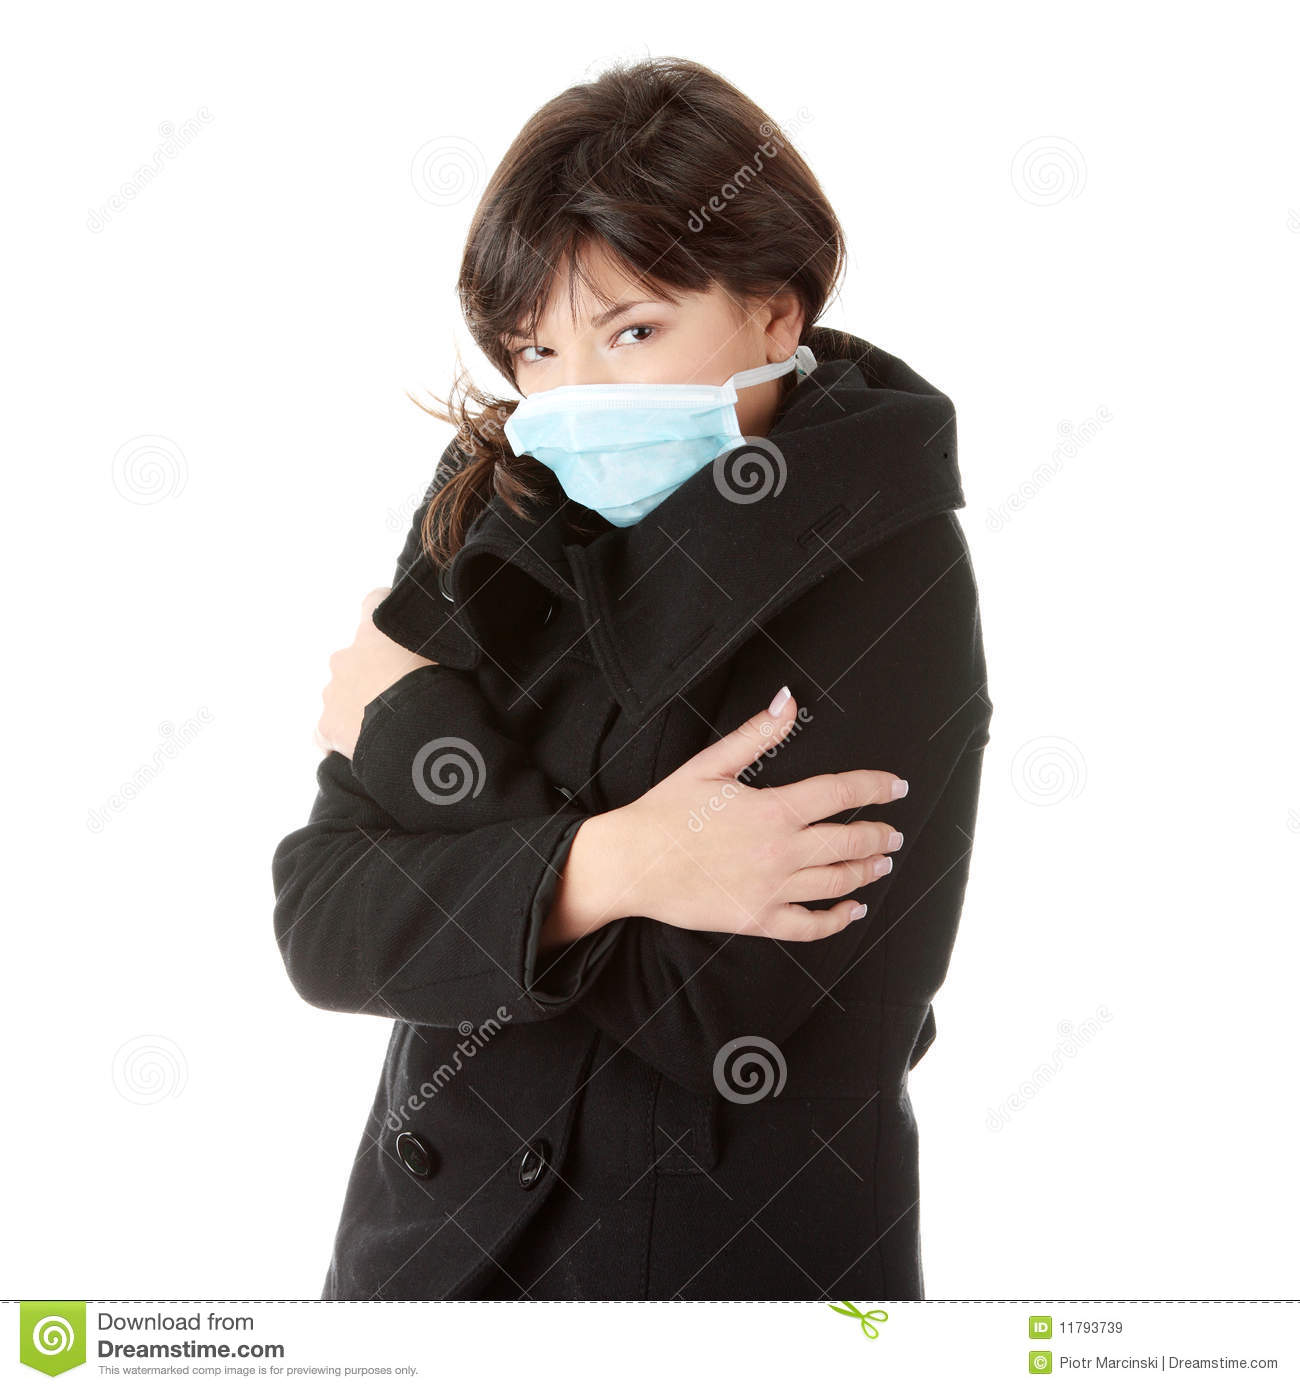mask: (512, 380, 743, 528)
